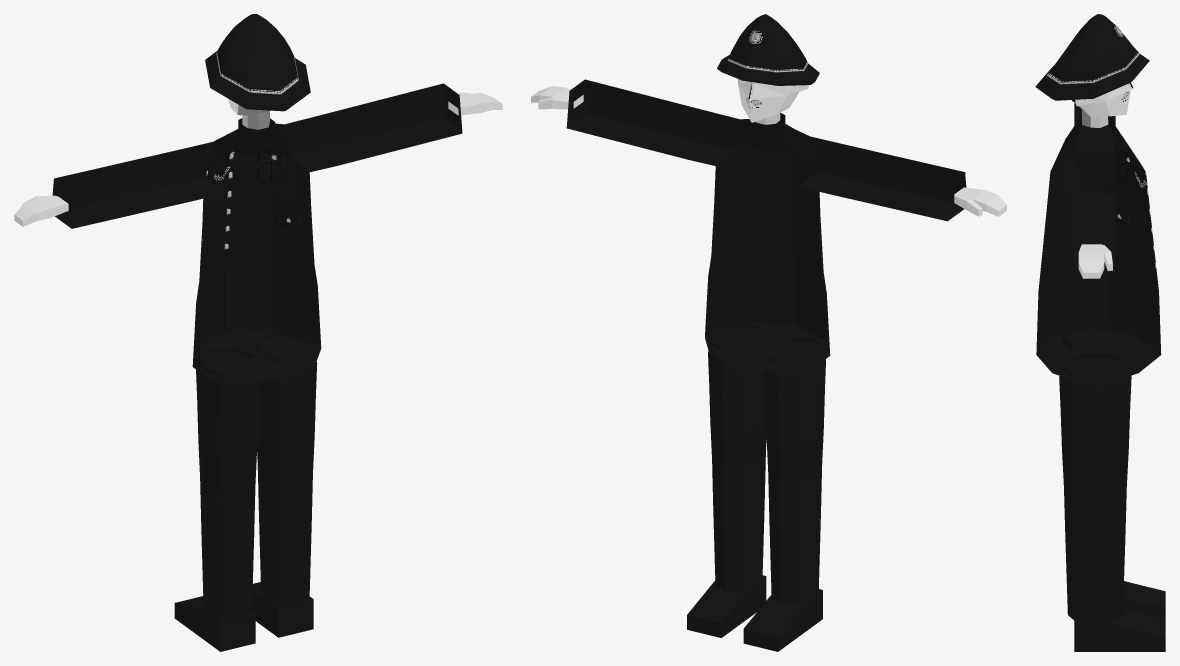
Rendered from Leonardd Thomas.gltf.
The picture shows the model from 3 angles, left to right: view 1: azimuth 30°, elevation 25°; view 2: azimuth 150°, elevation 25°; view 3: azimuth 270°, elevation 25°; orthographic projection. The views are drawn at different scales.
Visible parts, largest first — view 1: Blusa, Perna Dir, Chapeu, Pé Esq, Pé Dir, Mão Esquerda, Mão Dir; view 2: Blusa, Perna Dir, Chapeu, Pé Esq, Pé Dir, Cabeça, Mão Esquerda, Mão Dir; view 3: Blusa, Perna Dir, Chapeu, Pé Dir, Pé Esq, Cabeça, Mão Dir, Pescoço.
Part boxes in pixels (x1,y1,x2,y2): Blusa: (52,83,462,382); Perna Dir: (196,333,317,621); Chapeu: (205,14,310,111); Pé Esq: (174,596,255,651); Pé Dir: (252,582,313,637); Mão Esquerda: (14,195,68,226); Mão Dir: (448,92,502,115); Blusa: (566,79,966,371); Perna Dir: (708,324,825,605); Chapeu: (717,14,819,85); Pé Esq: (743,589,822,651); Pé Dir: (687,575,766,637); Cabeça: (738,79,808,122); Mão Esquerda: (954,187,1006,216); Mão Dir: (531,86,583,109); Blusa: (1036,103,1161,382); Perna Dir: (1059,325,1131,624); Chapeu: (1035,14,1149,100); Pé Dir: (1074,609,1165,651); Pé Esq: (1123,581,1165,619); Cabeça: (1072,82,1133,117); Mão Dir: (1078,244,1112,278); Pescoço: (1082,109,1108,127).
Bounding box in the file's own units: 3.39 × 4.17 × 0.802.
Materials: 1 (1 with a texture image).
